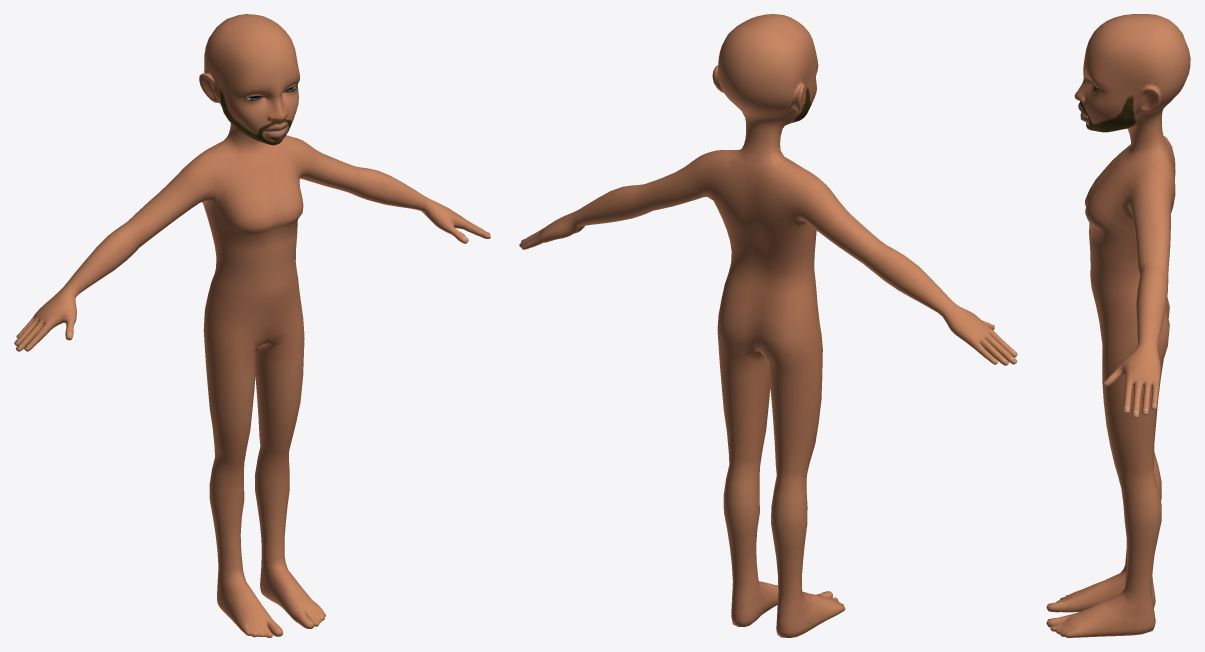
File: frame_0096.glb
The picture shows the model from 3 angles, left to right: view 1: azimuth 30°, elevation 25°; view 2: azimuth 150°, elevation 25°; view 3: azimuth 270°, elevation 25°; orthographic projection. The views are drawn at different scales.
Visible parts, largest first — view 1: frame_0096_head_geo; view 2: frame_0096_head_geo; view 3: frame_0096_head_geo.
Part boxes in pixels (x1=…): frame_0096_head_geo: x1=14, y1=14, x2=490, y2=637; frame_0096_head_geo: x1=519, y1=14, x2=1017, y2=637; frame_0096_head_geo: x1=1046, y1=14, x2=1190, y2=637.
Bounding box in the file's own units: 1.28 × 1.5 × 0.3253.
3 materials, 3 textured.
